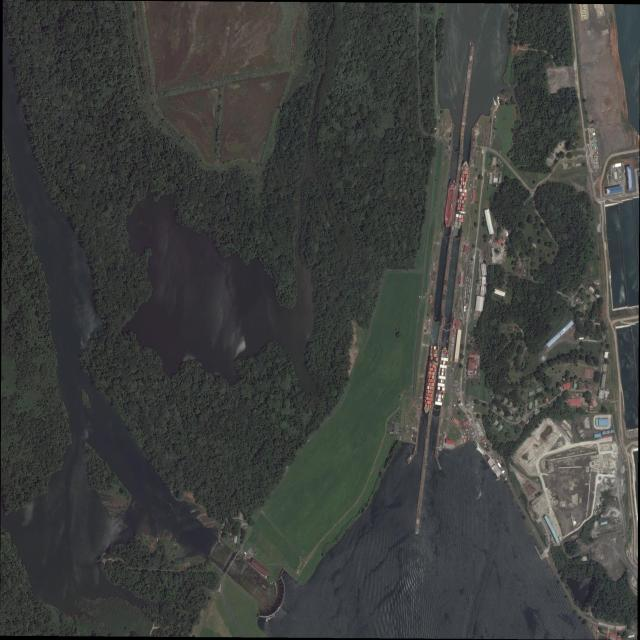ship: (422, 344, 439, 413), (454, 160, 470, 230), (434, 346, 449, 406), (443, 178, 457, 228), (478, 491, 482, 498), (497, 476, 501, 481)
